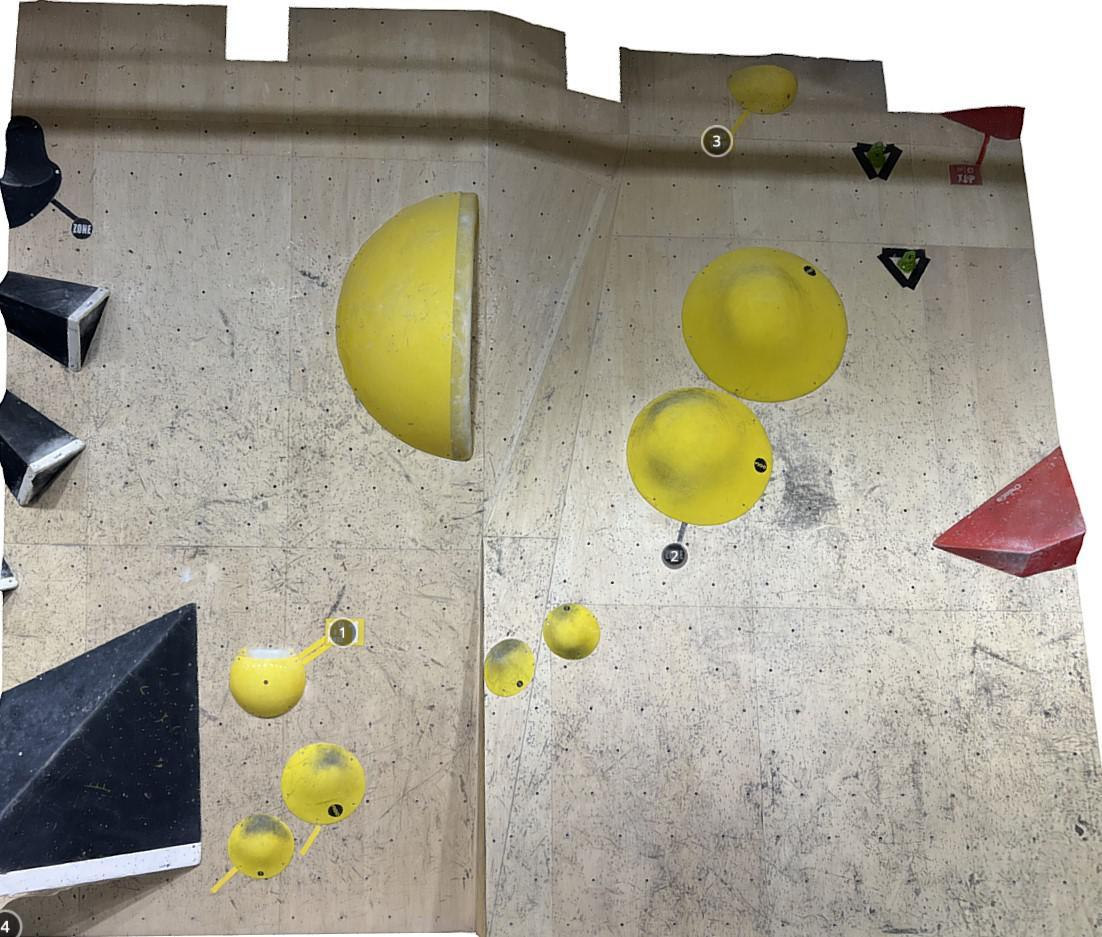hold: (0, 601, 202, 895), (336, 192, 478, 461), (682, 247, 849, 403), (626, 387, 772, 525), (0, 116, 62, 229), (281, 743, 366, 825), (229, 647, 306, 719), (228, 813, 295, 878), (727, 64, 799, 116), (543, 604, 601, 660), (483, 638, 536, 697), (940, 105, 1025, 140), (877, 247, 931, 292), (851, 142, 904, 182)
volume: (931, 444, 1086, 578)
